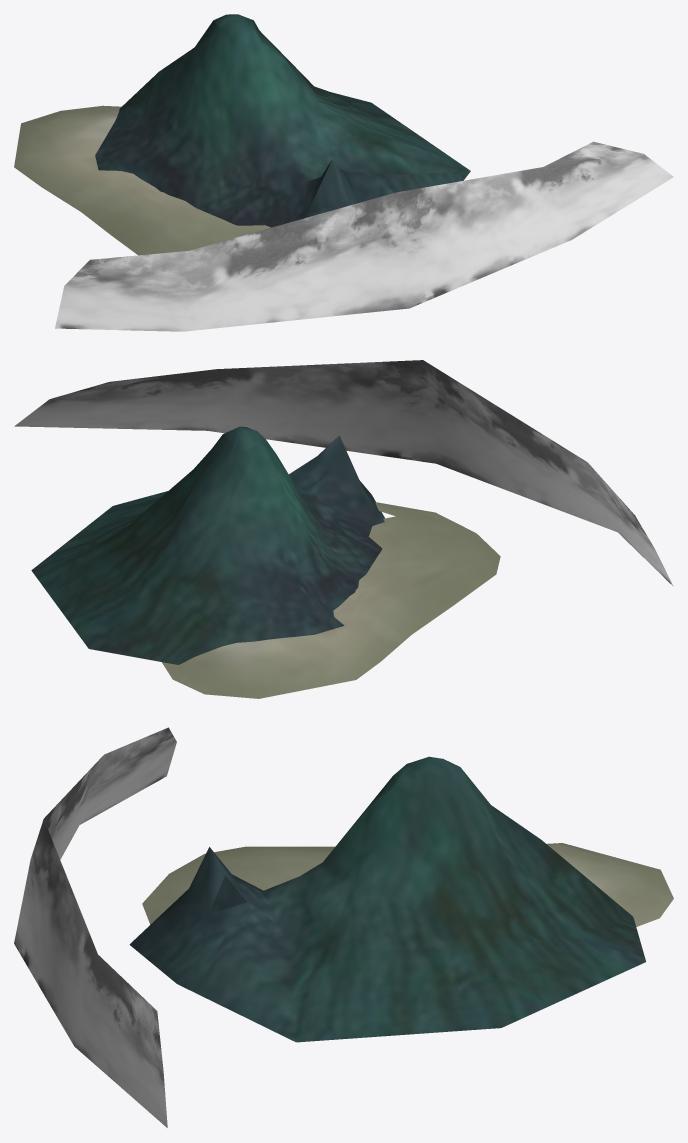
The model's file is pir_m_are_isl_mysterious_01_low.fbx.
The picture shows the model from 3 angles, top to bottom: view 1: azimuth 30°, elevation 25°; view 2: azimuth 150°, elevation 25°; view 3: azimuth 270°, elevation 25°; orthographic projection. The views are drawn at different scales.
Parts seen in each view (by area): view 1: fog, hill, ground1; view 2: hill, fog, ground1; view 3: hill, fog, ground1.
Boxes of the visible parts, left/top/right/bottom form: fog: left=55, top=141, right=673, bottom=331; hill: left=95, top=14, right=470, bottom=227; ground1: left=14, top=105, right=270, bottom=255; hill: left=31, top=426, right=384, bottom=664; fog: left=14, top=360, right=673, bottom=586; ground1: left=162, top=502, right=500, bottom=698; hill: left=129, top=756, right=645, bottom=1042; fog: left=14, top=727, right=176, bottom=1127; ground1: left=142, top=843, right=673, bottom=926.
Size of the model in its own units: 470895 by 116927 by 372653.
Materials: 2 (2 with a texture image).
